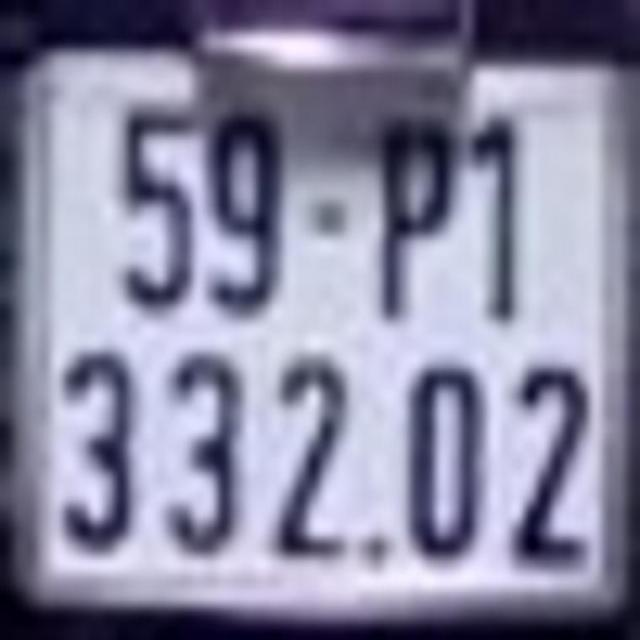0: (408, 362, 481, 561)
1: (477, 119, 519, 330)
2: (274, 349, 345, 552), (520, 372, 588, 564)
3: (60, 347, 134, 552), (165, 348, 235, 543)
5: (122, 104, 194, 306)
9: (211, 104, 281, 314)
P: (381, 105, 448, 313)
